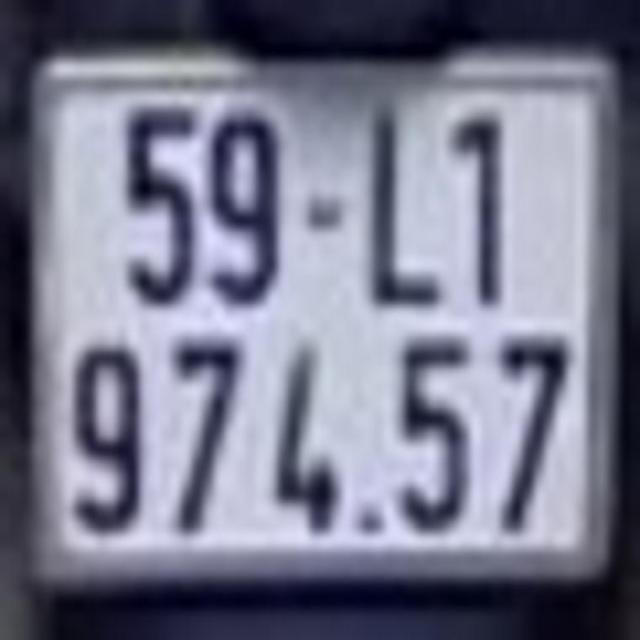1: (452, 104, 507, 301)
4: (269, 350, 336, 530)
5: (395, 332, 475, 526), (129, 106, 194, 300)
7: (504, 337, 570, 554), (170, 339, 237, 544)
9: (213, 108, 283, 308), (72, 348, 140, 532)
L: (364, 116, 442, 308)
